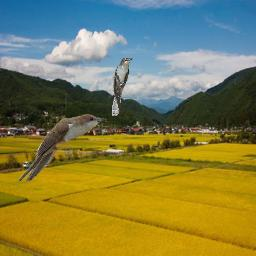Cuckoo: (18, 114, 107, 181), (111, 57, 133, 116)
